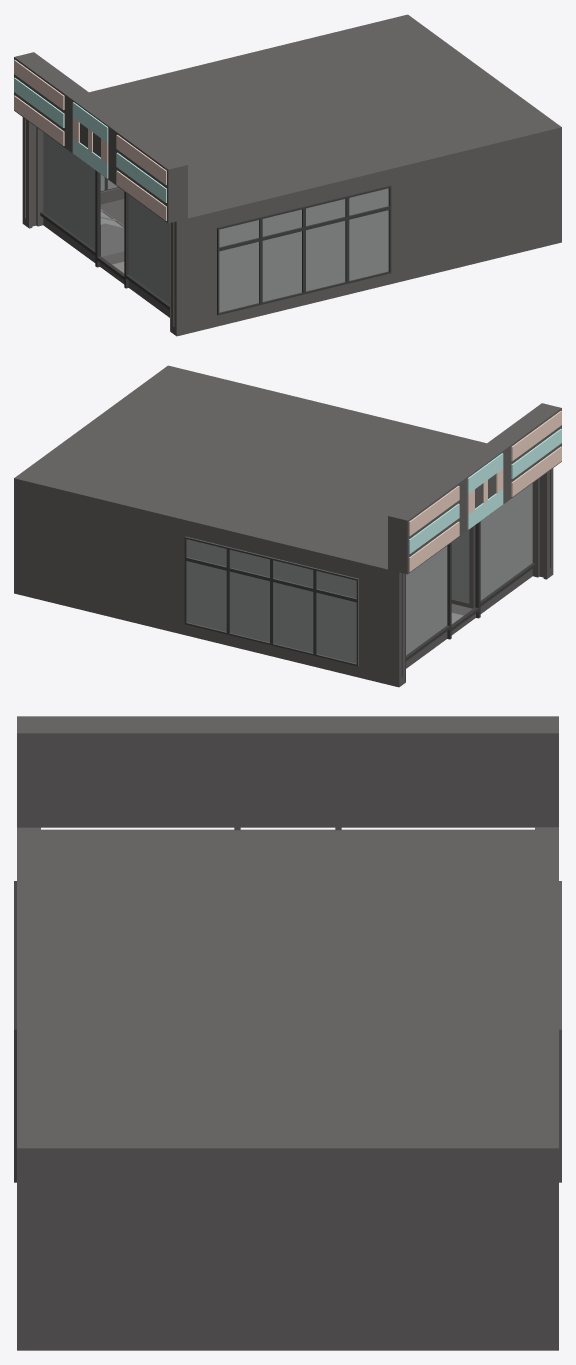
Rendered from Shopping with Saleswomen.fbx.
The picture shows the model from 3 angles, top to bottom: view 1: azimuth 30°, elevation 25°; view 2: azimuth 150°, elevation 25°; view 3: azimuth 270°, elevation 25°; orthographic projection. The views are drawn at different scales.
Visible parts, largest first — view 1: pCube1, pCube2, polySurface2, pCube25; view 2: pCube1, pCube2, polySurface2, polySurface3; view 3: pCube1, pCube2.
Part boxes in pixels (<box>): pCube1: <box>22,14,561,336</box>; pCube2: <box>14,52,187,223</box>; polySurface2: <box>40,170,169,309</box>; pCube25: <box>100,209,124,256</box>; pCube1: <box>14,365,553,687</box>; pCube2: <box>388,403,561,574</box>; polySurface2: <box>406,521,535,660</box>; polySurface3: <box>451,525,475,608</box>; pCube1: <box>14,827,561,1350</box>; pCube2: <box>17,716,558,827</box>.
Bounding box in the file's own units: 1464 × 599 × 1001.
